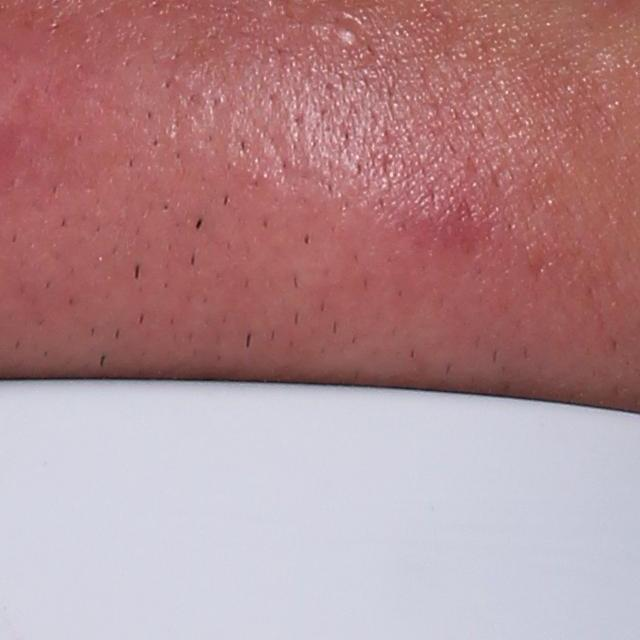pustule: (328, 18, 364, 50)
